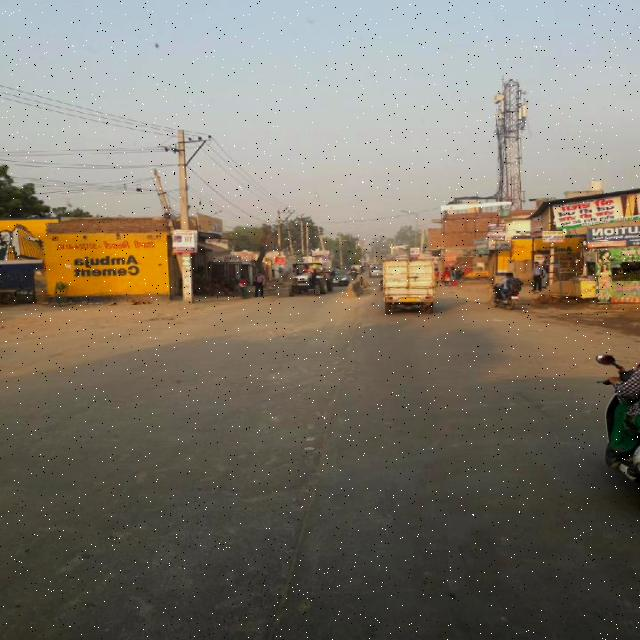D01: (270, 326, 364, 628)
